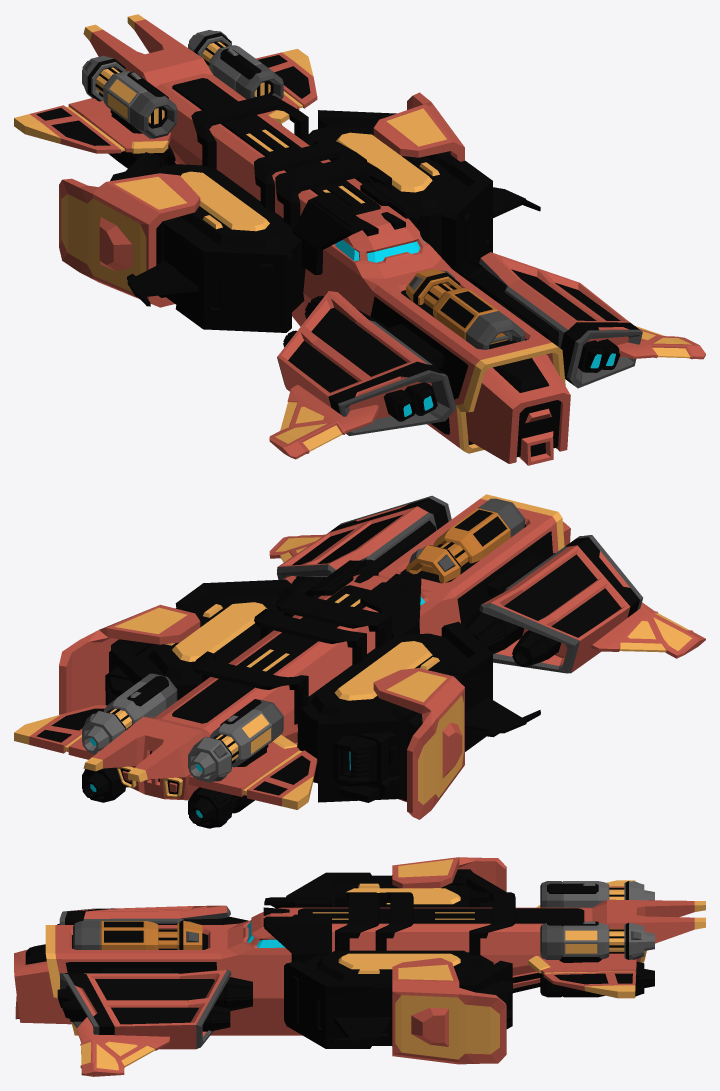
The model's file is enemy01-03.fbx.
3 renders of one model, top to bottom at view 1: azimuth 30°, elevation 25°; view 2: azimuth 150°, elevation 25°; view 3: azimuth 270°, elevation 25°, orthographic. The views are drawn at different scales.
Parts seen in each view (by area): view 1: SM_Ship_Cruiser_01; view 2: SM_Ship_Cruiser_01; view 3: SM_Ship_Cruiser_01.
Boxes of the visible parts, <box> form: SM_Ship_Cruiser_01: <box>14,14,705,465</box>; SM_Ship_Cruiser_01: <box>14,494,705,828</box>; SM_Ship_Cruiser_01: <box>14,857,705,1076</box>.
Bounding box in the file's own units: 2922 × 989 × 5222.
